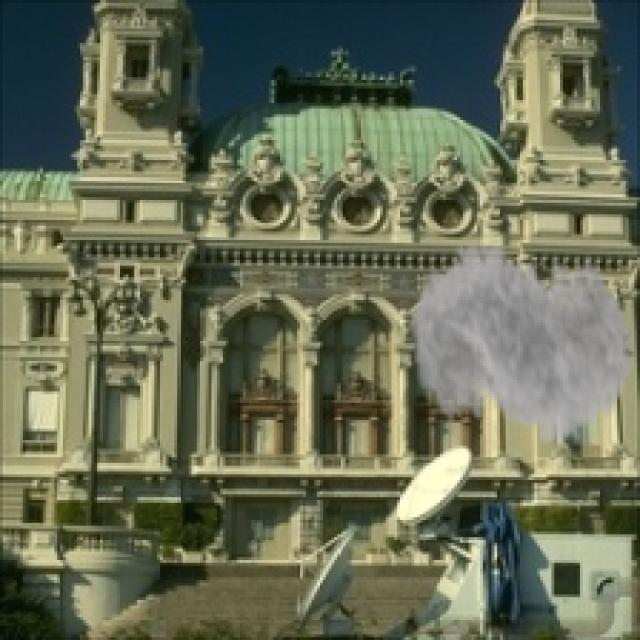smoke: (409, 214, 634, 466)
